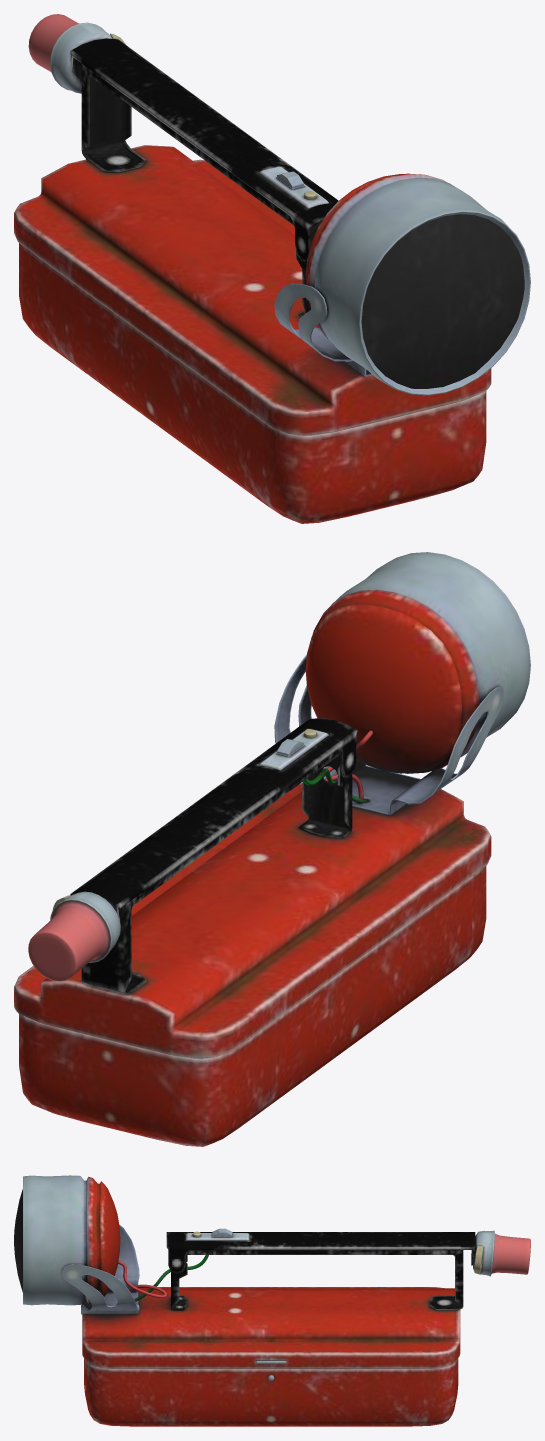
The model's file is vintage_flashlight.gltf.
The picture shows the model from 3 angles, top to bottom: view 1: azimuth 30°, elevation 25°; view 2: azimuth 150°, elevation 25°; view 3: azimuth 270°, elevation 25°; orthographic projection. The views are drawn at different scales.
Parts seen in each view (by area): view 1: vintage_flashlight; view 2: vintage_flashlight; view 3: vintage_flashlight.
Part boxes in pixels (x1,y1,x2,y2): vintage_flashlight: [14, 14, 530, 523]; vintage_flashlight: [14, 552, 530, 1146]; vintage_flashlight: [14, 1175, 530, 1426].
Bounding box in the file's own units: 0.0959 × 0.1443 × 0.3055.
2 materials, 2 textured.
